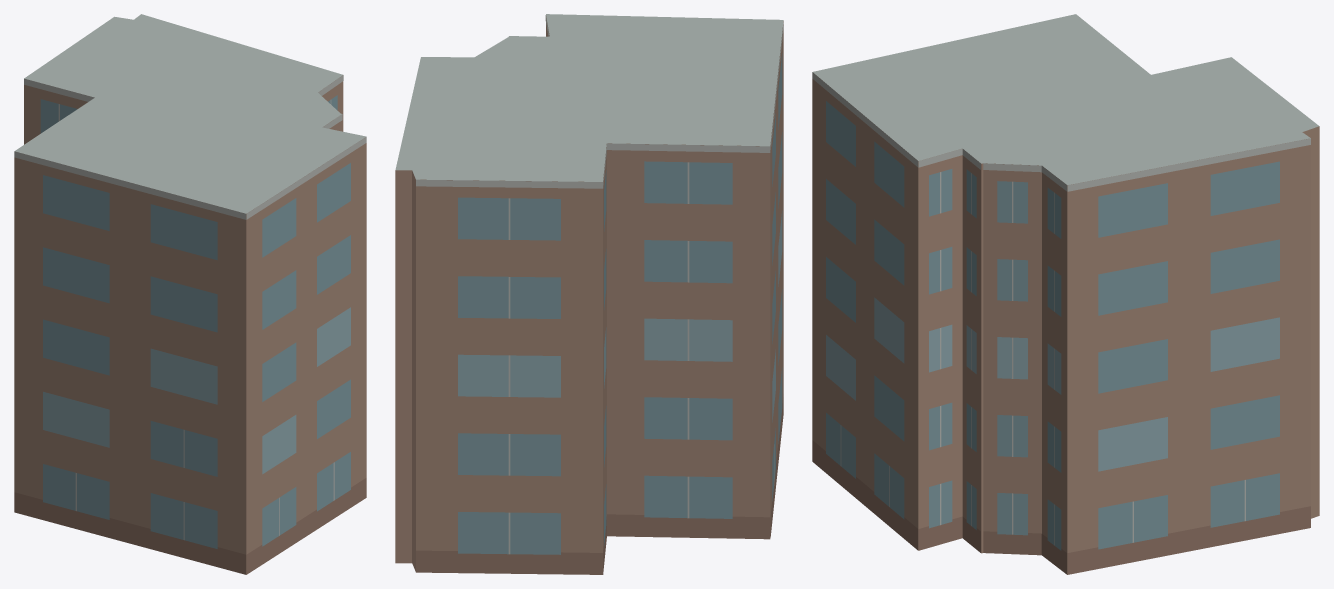
The model's file is survey-upis-33030476.glb.
3 views of the same model, side by side, from view 1: azimuth 30°, elevation 25°; view 2: azimuth 150°, elevation 25°; view 3: azimuth 270°, elevation 25° (orthographic). The views are drawn at different scales.
Parts seen in each view (by area): view 1: survey-upis-33030476.tmp; view 2: survey-upis-33030476.tmp; view 3: survey-upis-33030476.tmp.
Boxes of the visible parts, left/top/right/bottom form: survey-upis-33030476.tmp: left=14, top=14, right=366, bottom=574; survey-upis-33030476.tmp: left=395, top=14, right=783, bottom=574; survey-upis-33030476.tmp: left=812, top=14, right=1319, bottom=574.
Size of the model in its own units: 13.48 by 14.3 by 16.88.
